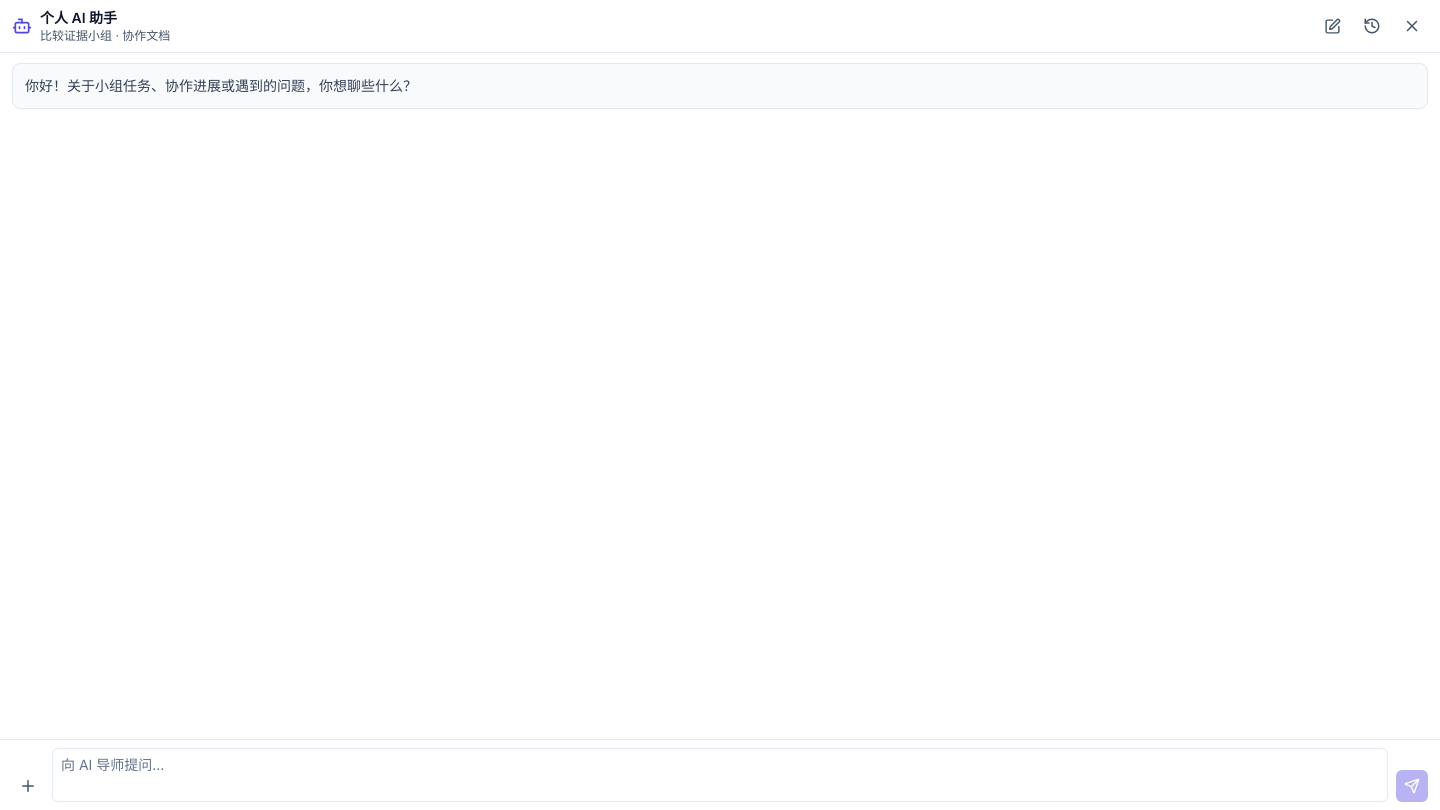
it: opens saved messages from personal history and does not automatically resend an interrupted turn
Click the button named "历史对话": x=1372, y=26 left=1356, top=10, right=1388, bottom=42
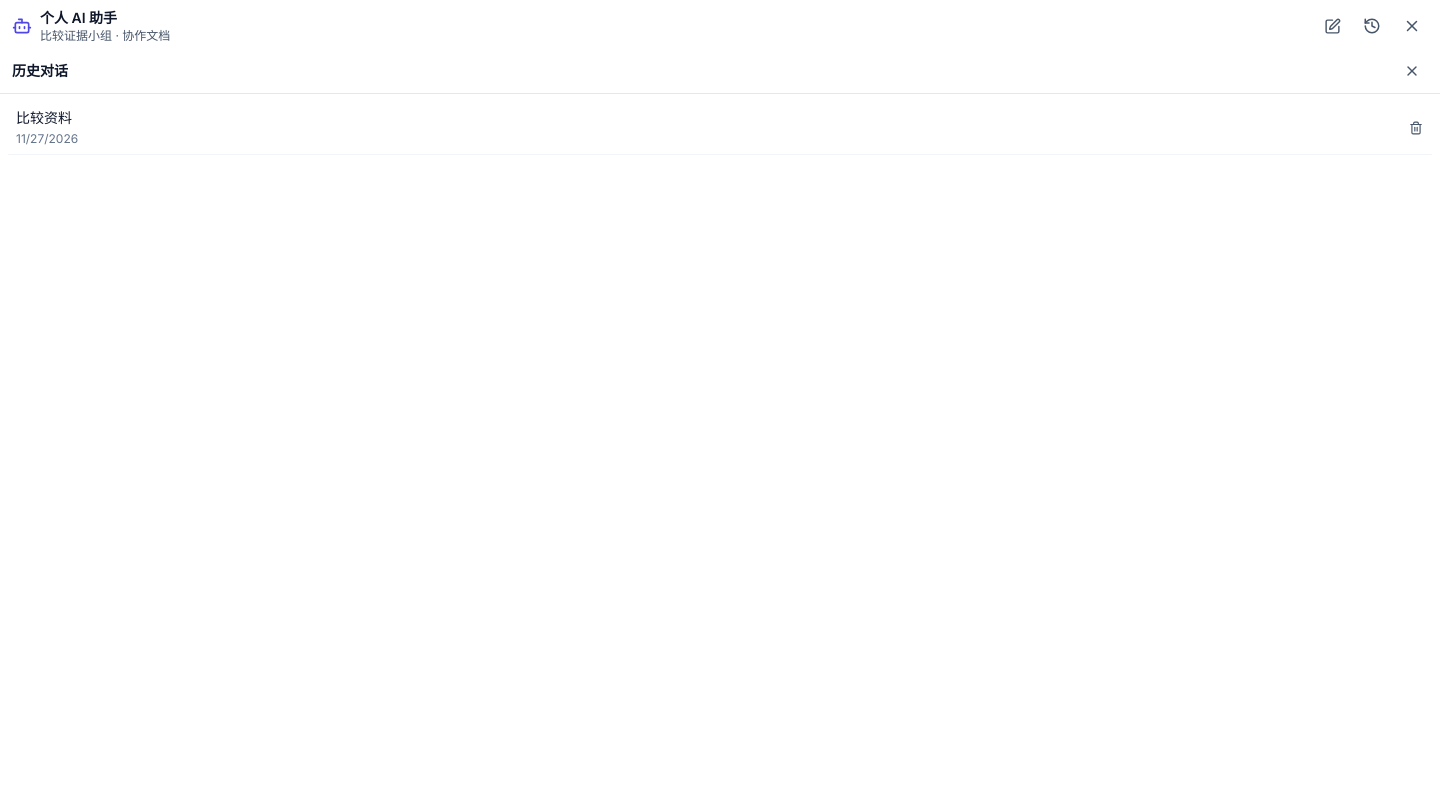
Click the text "比较资料": x=44, y=118 left=16, top=109, right=72, bottom=126
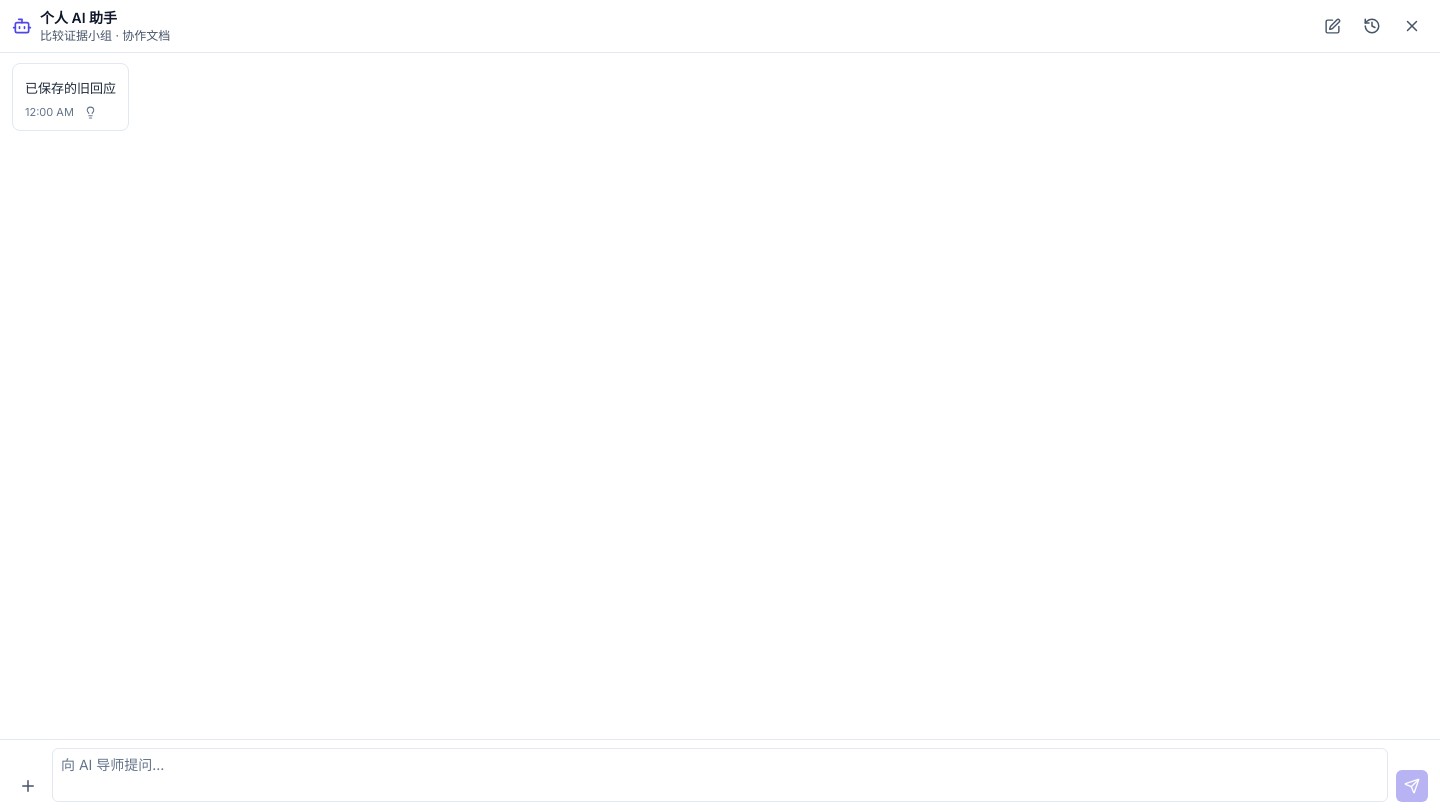
Expected: the text "已保存的旧回应" is shown, left=25, top=78, right=116, bottom=98
In the text box labelled "向 AI 导师提问": x=720, y=775 left=52, top=748, right=1388, bottom=802, type "再追问一次"
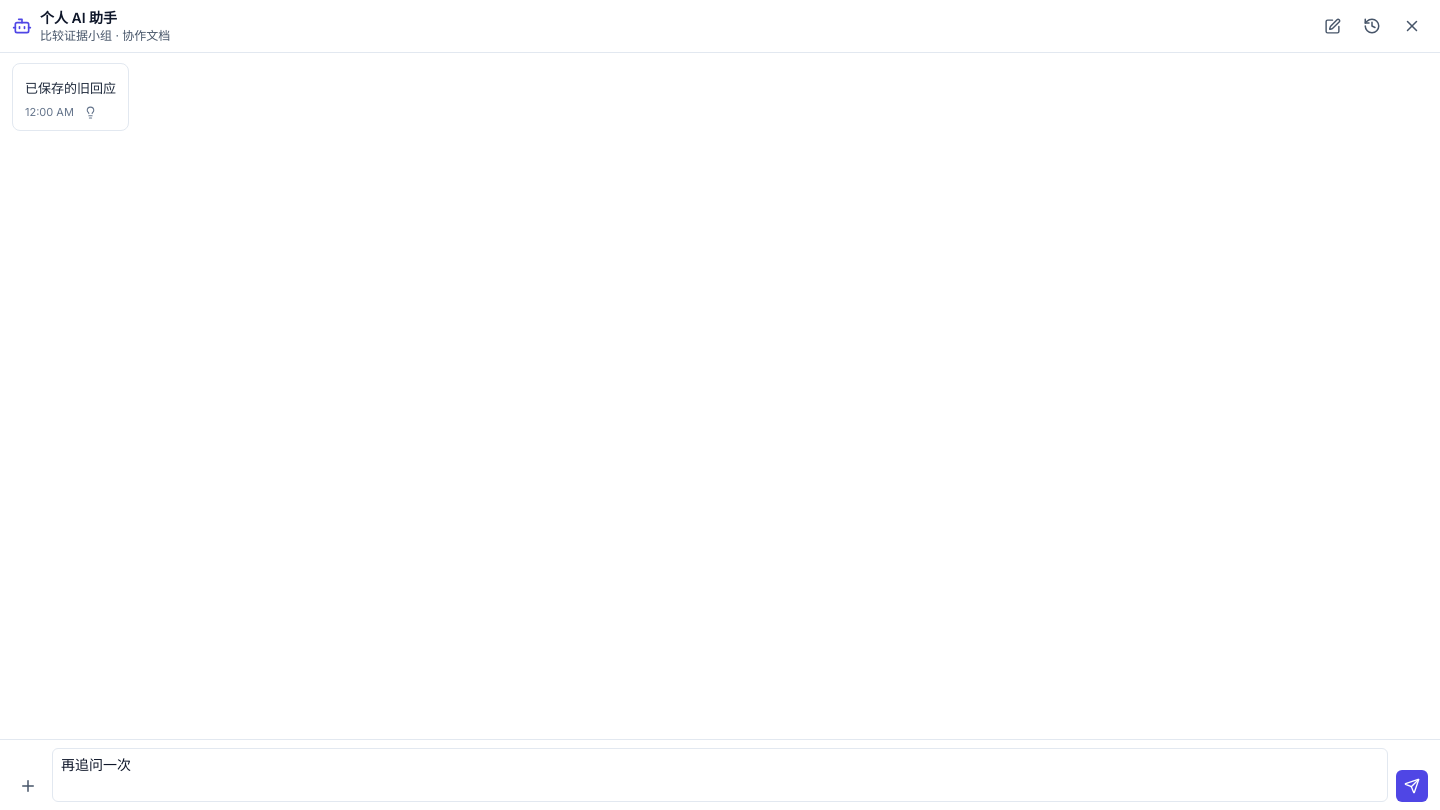
Click the button named "发送": x=1412, y=786 left=1396, top=770, right=1428, bottom=802
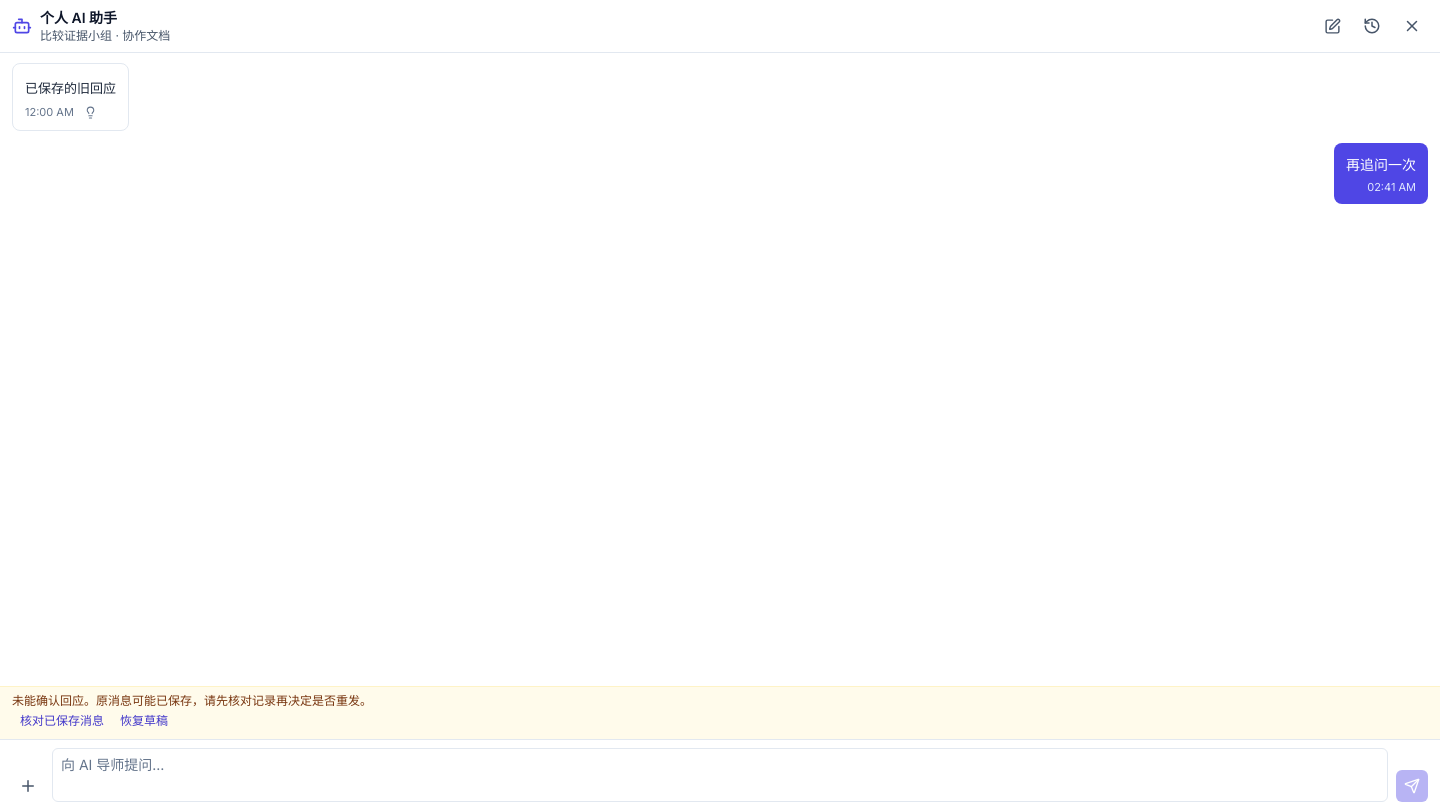
Expected: the text "未能确认回应。原消息可能已保存，请先核对记录再决定是否重发。" is shown, left=12, top=693, right=372, bottom=708
